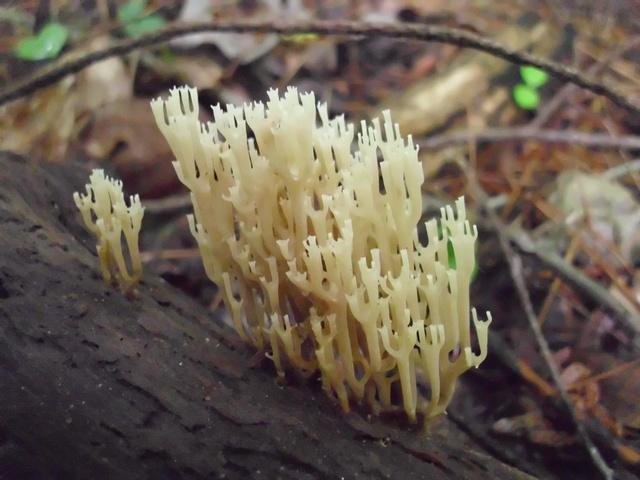edible_mushroom: (147, 81, 493, 429), (71, 166, 146, 296)
